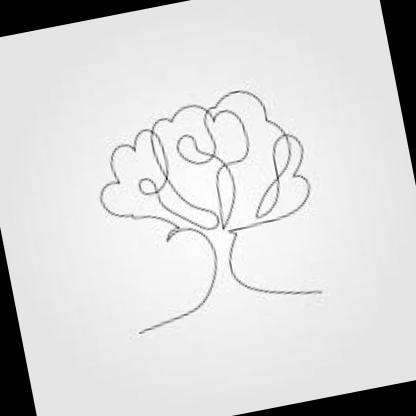crown_cloud: (84, 80, 316, 254)
trunk_reflex: (199, 232, 250, 294)
